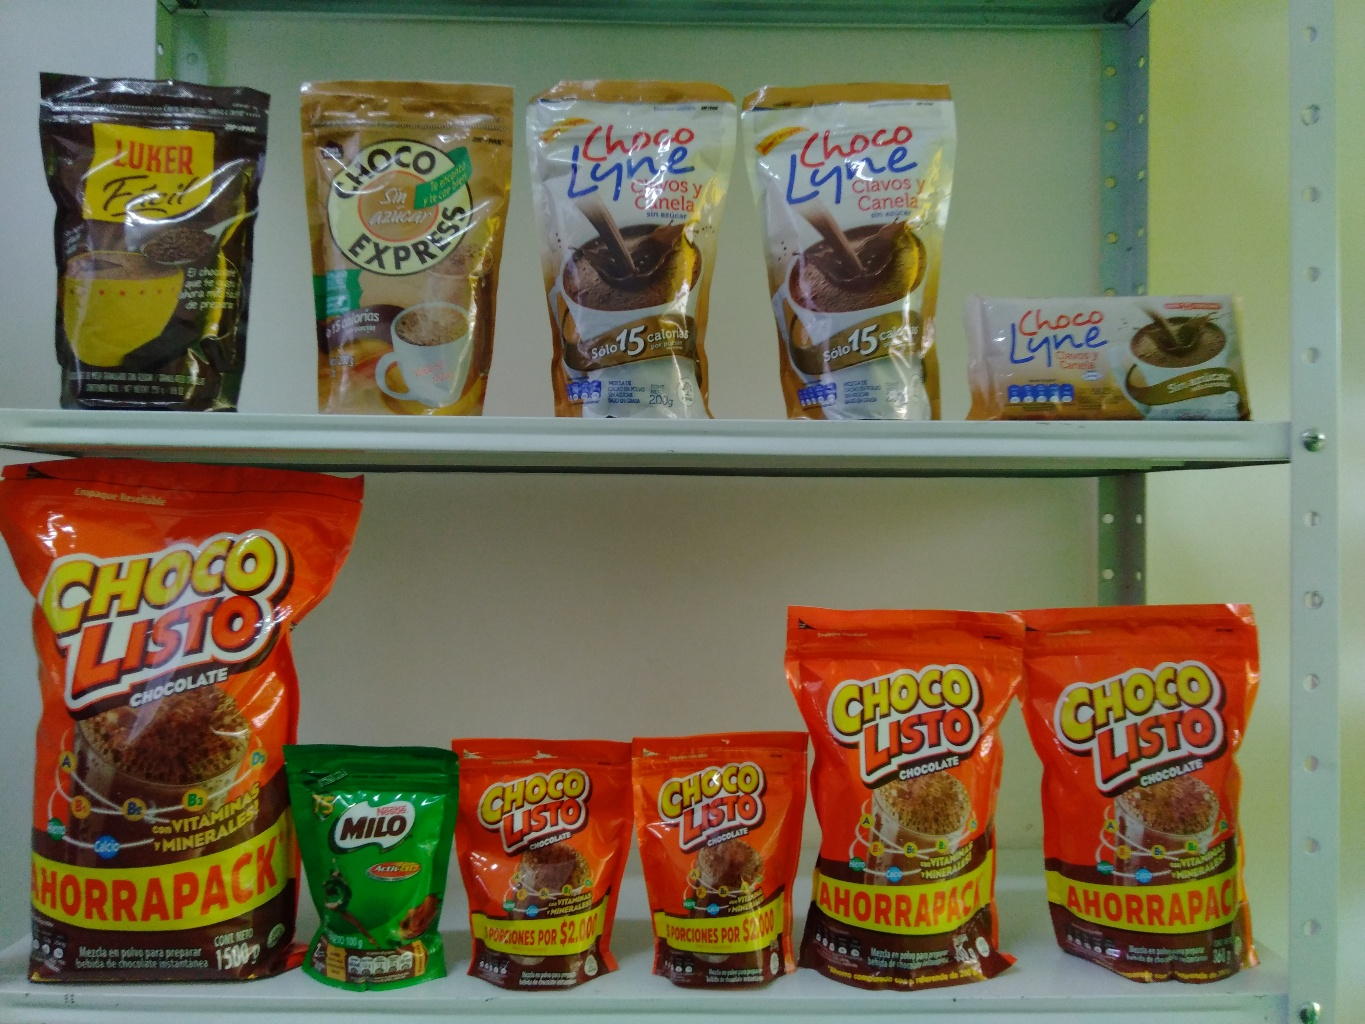COL0170103DYP1,500: (0, 450, 360, 996)
COL0170103DYP10000: (441, 733, 640, 997)
COL0170103DYP36000: (1025, 584, 1292, 991)
COL0170103DYP40000: (783, 595, 1033, 1002)
COL0170203DYP10000: (289, 728, 470, 1007)
